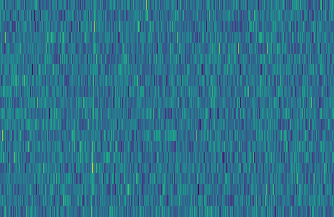signal: (85, 0, 97, 217)
